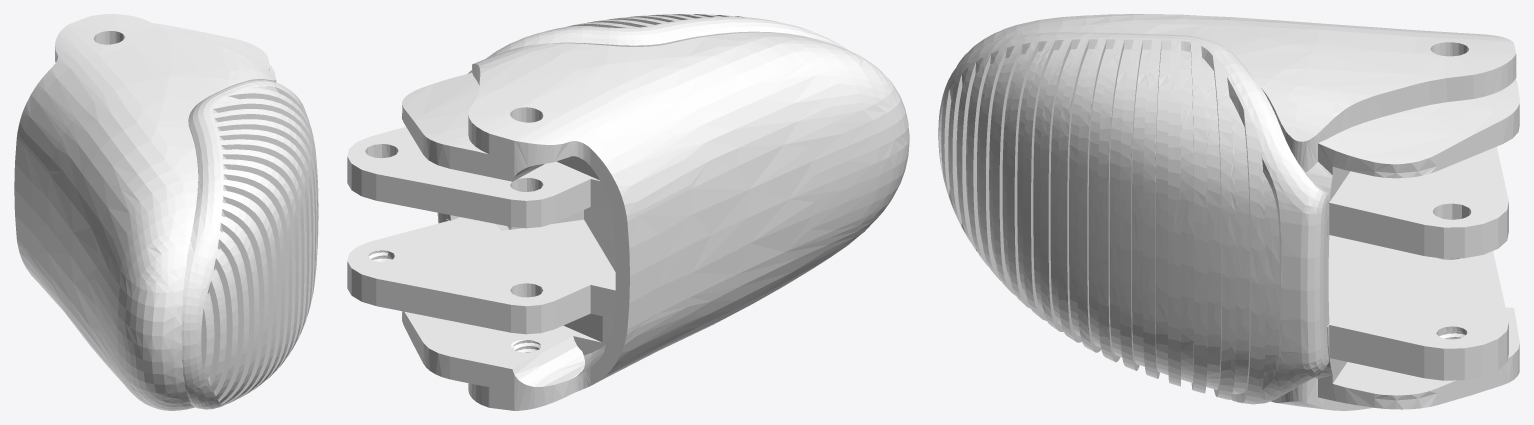
File: lh_thumb_distal_vis.obj
The picture shows the model from 3 angles, left to right: view 1: azimuth 30°, elevation 25°; view 2: azimuth 150°, elevation 25°; view 3: azimuth 270°, elevation 25°; orthographic projection. The views are drawn at different scales.
Parts seen in each view (by area): view 1: lh_thumb_distal; view 2: lh_thumb_distal; view 3: lh_thumb_distal.
Part boxes in pixels (bbox=[...]): lh_thumb_distal: bbox=[14, 14, 318, 410]; lh_thumb_distal: bbox=[347, 14, 909, 410]; lh_thumb_distal: bbox=[938, 14, 1519, 410].
Size of the model in its own units: 0.0241 by 0.0189 by 0.0302.
1 material, 1 textured.
